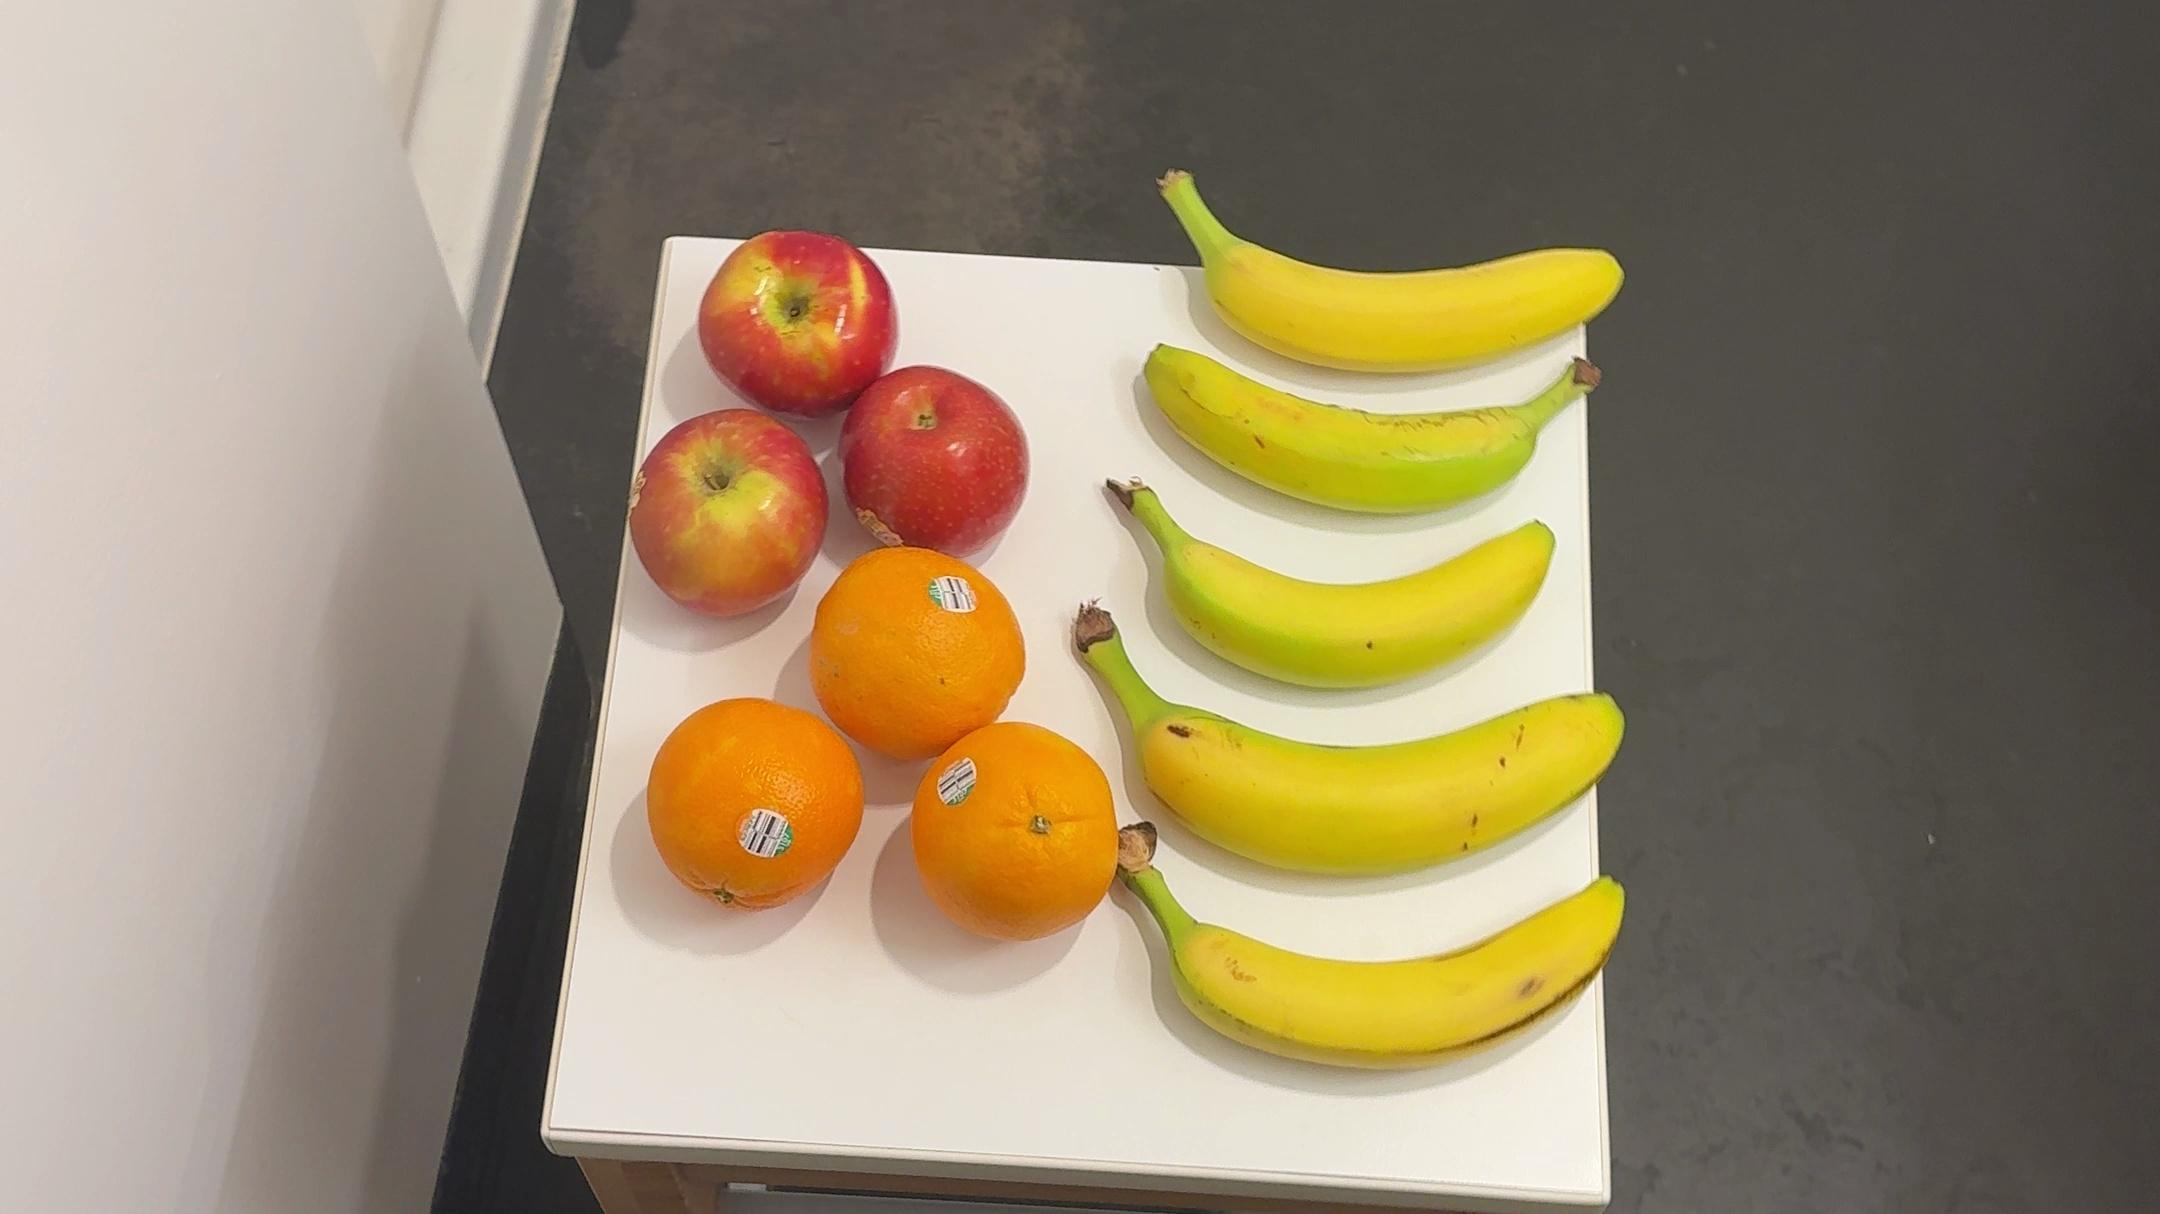apple: (820, 358, 1037, 565), (629, 411, 831, 631), (702, 217, 899, 419)
banana: (1056, 594, 1636, 887), (1101, 810, 1647, 1083), (1142, 148, 1636, 378), (1095, 462, 1558, 703), (1125, 319, 1616, 528)
orange: (639, 689, 874, 919), (906, 711, 1122, 936), (813, 549, 1031, 745)
